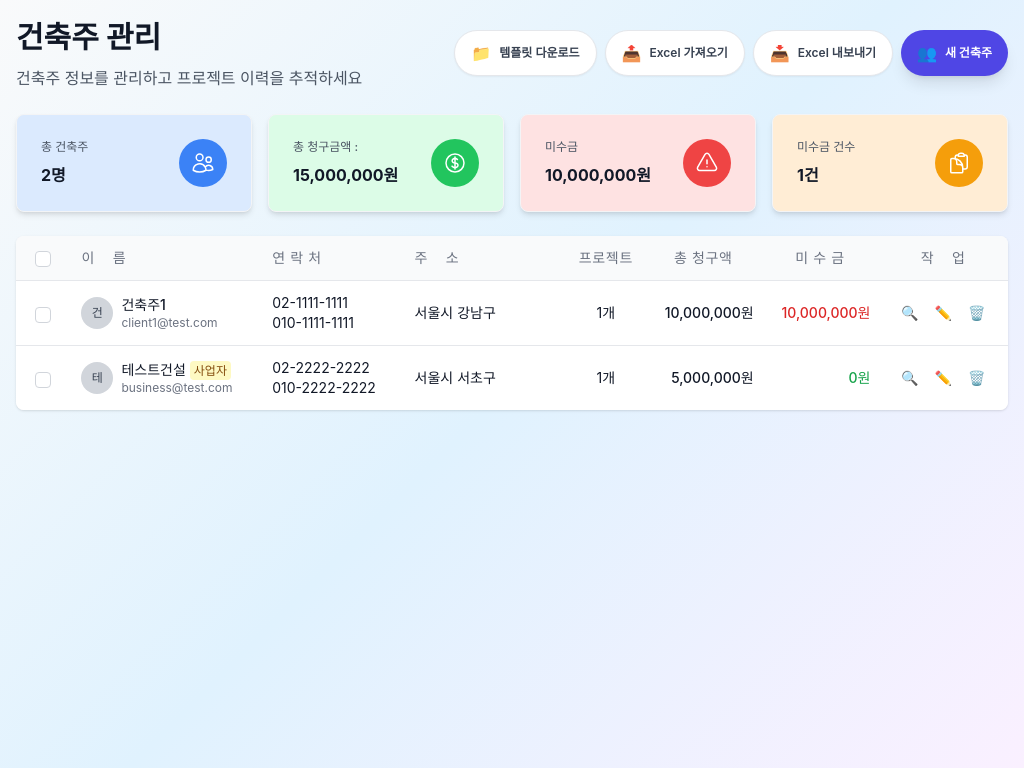
Test: Clients Component › 건축주 상세보기 › 상세보기 클릭 시 상세 모달이 열림
Click the button titled "건축주 상세보기" in the row of "건축주1" at [910, 313], box [901,303,918,323]
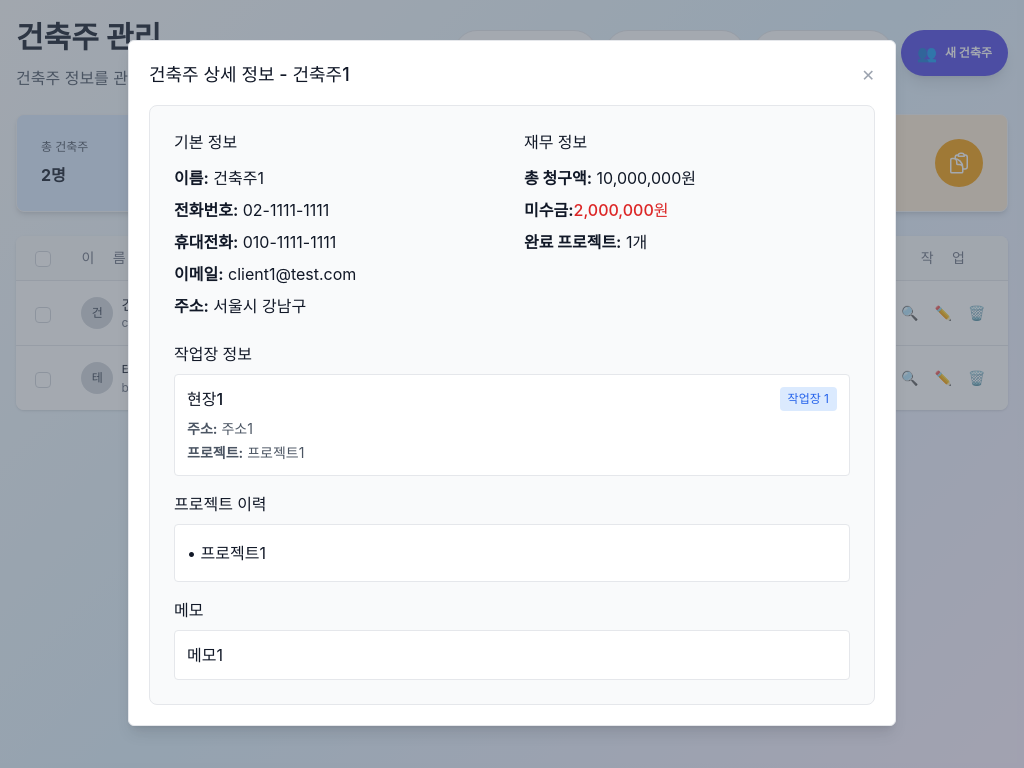
Expected: the heading "건축주 상세 정보 - 건축주1" is shown, [149,61,350,89]
